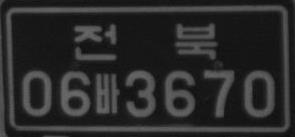0: (242, 68, 276, 117), (21, 70, 52, 115)
3: (124, 69, 157, 118)
6: (59, 69, 91, 117), (163, 69, 195, 117)
7: (203, 68, 235, 118)
바: (93, 72, 120, 114)
전북_D: (74, 23, 218, 60)
